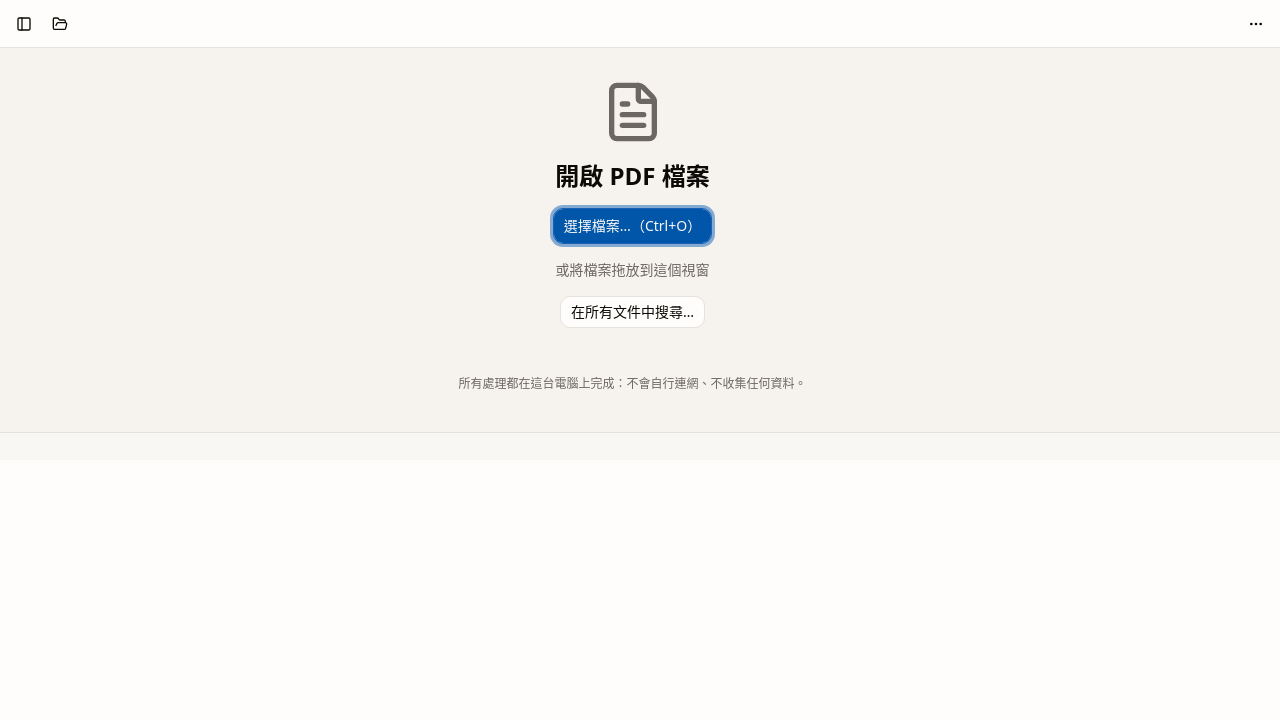
Test: where the search of every document is offered (B3-21) › on the start screen while the index is on, and in the menu
Click the button "在所有文件中搜尋…". click: (633, 312)
box: 560,296 -> 705,328
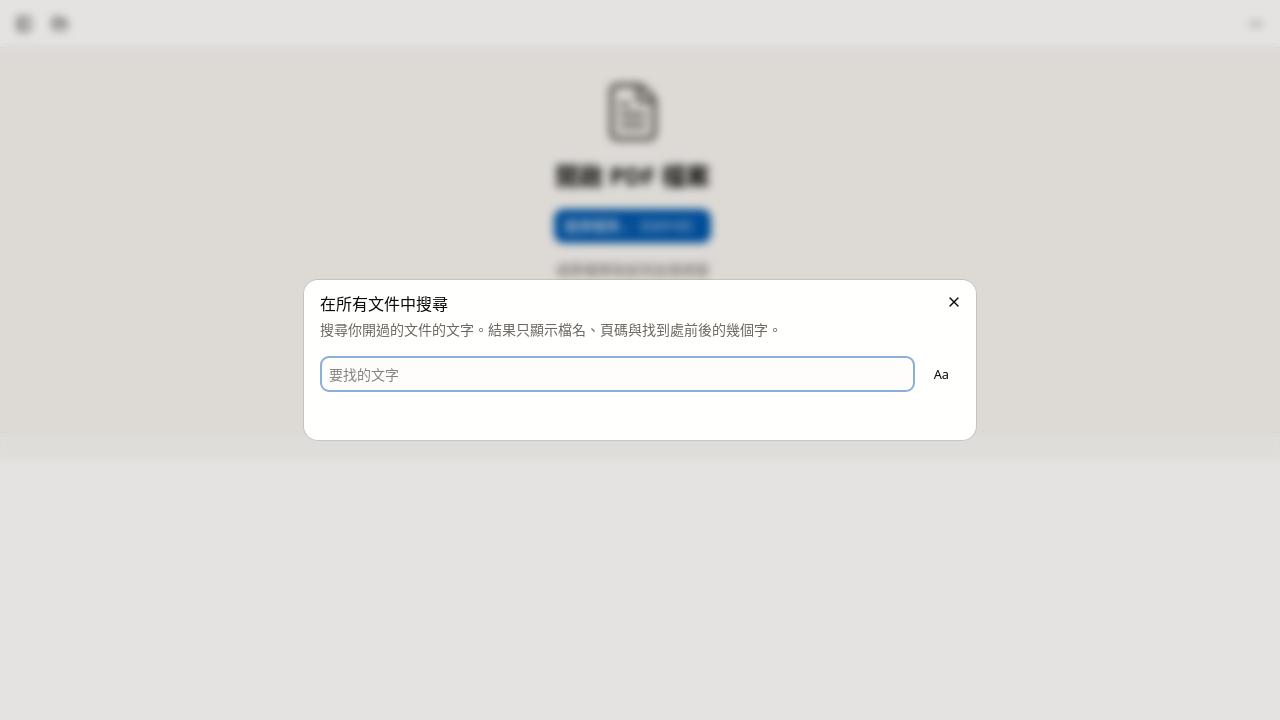
Check: the dialog "在所有文件中搜尋" is shown, box 304,280 -> 976,440
Press Escape
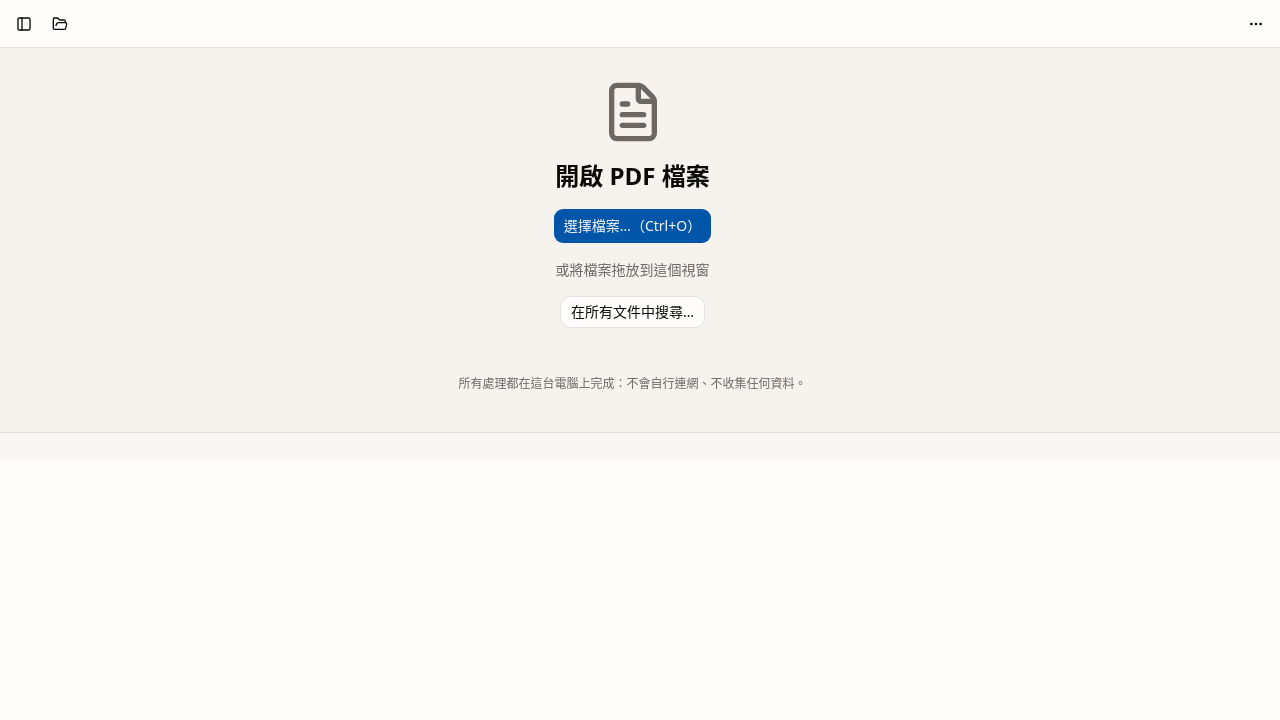
Check: the dialog is gone
Click the button named "更多". click: (1256, 24)
box: 1240,8 -> 1272,40
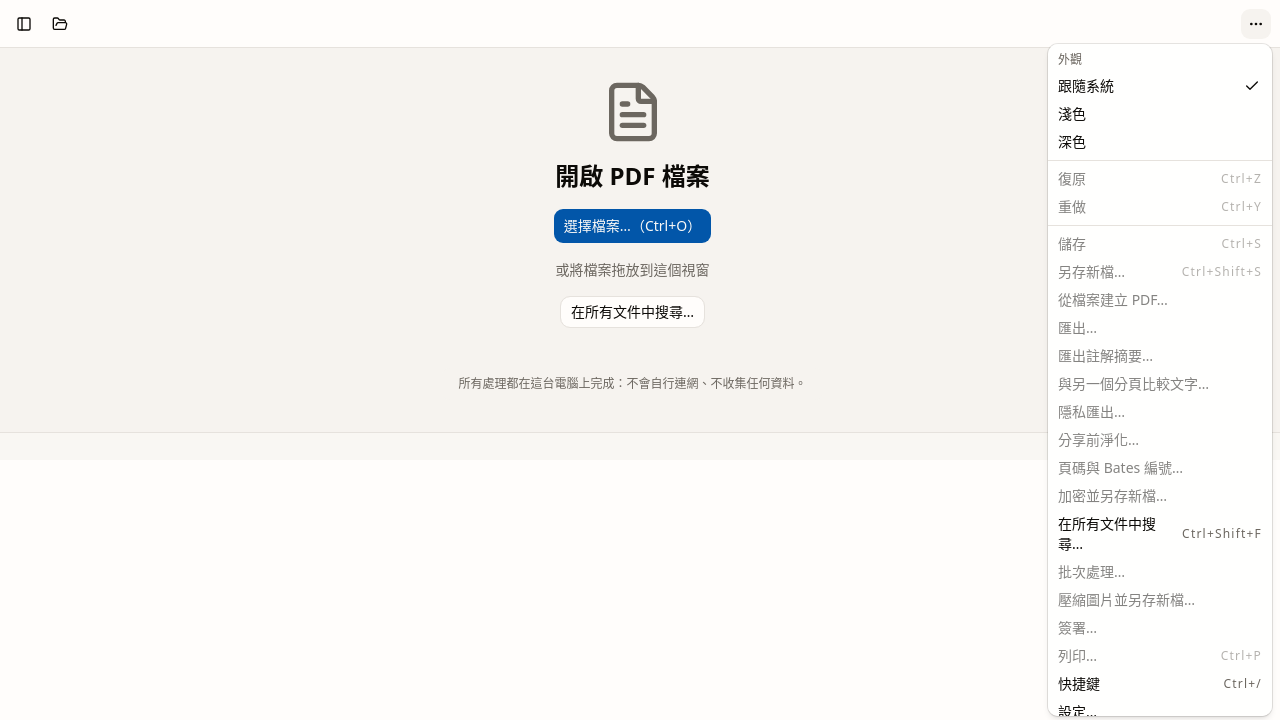
Click the menu item "在所有文件中搜尋… Ctrl+Shift+F". click: (1107, 524)
box: 1052,510 -> 1268,558
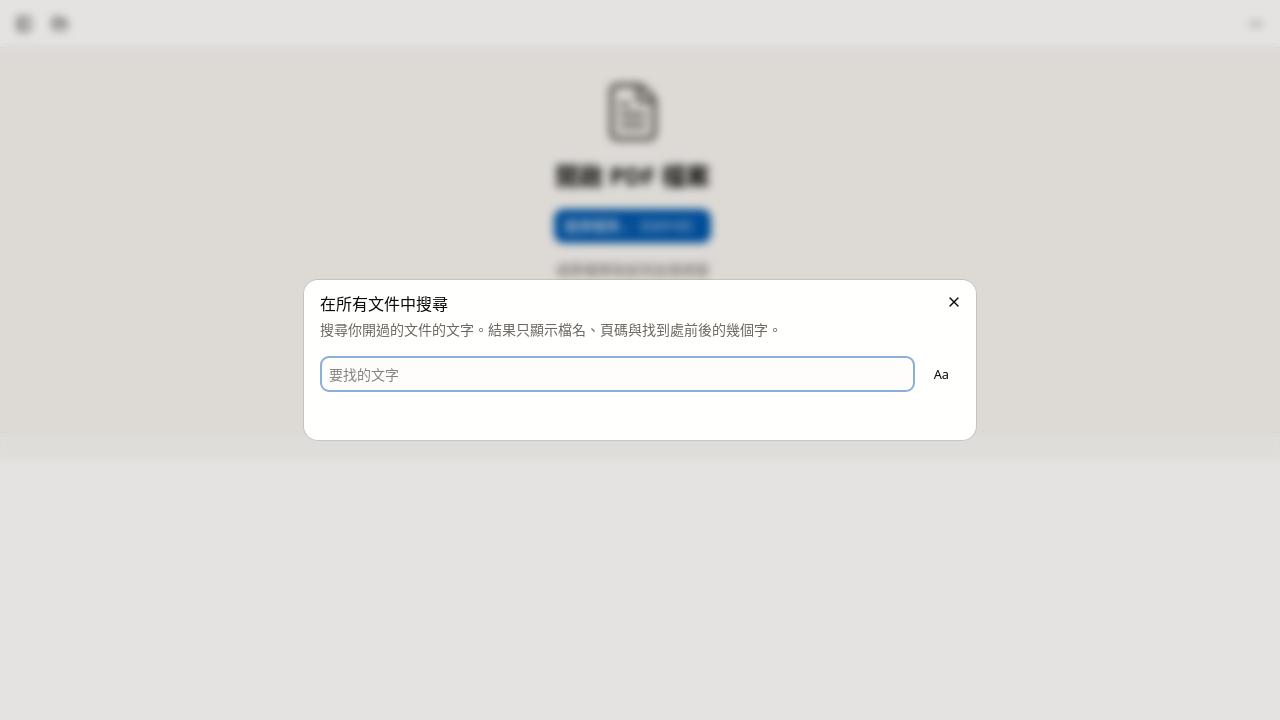
Check: the dialog "在所有文件中搜尋" is shown, box 304,280 -> 976,440
